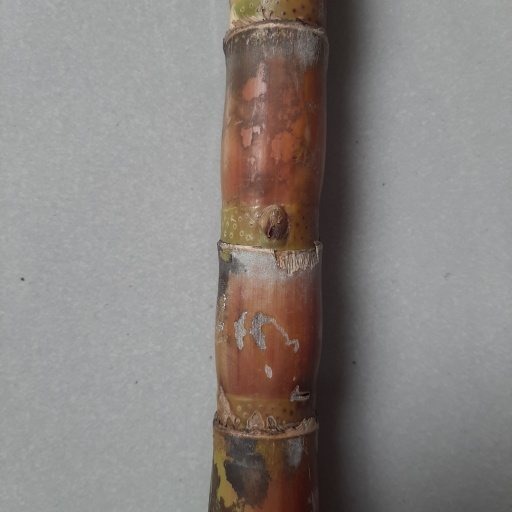Bud: (257, 204, 289, 243)
